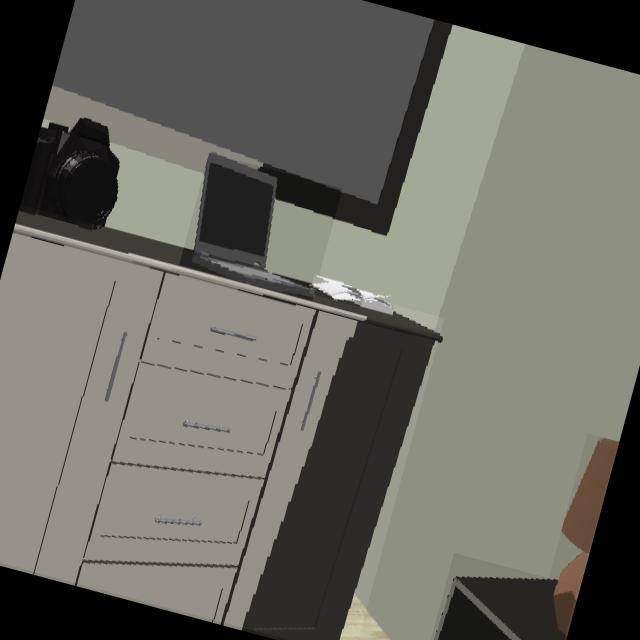book: (312, 276, 392, 315)
cabinet: (0, 214, 439, 640)
lamp: (554, 438, 618, 633)
laptop: (195, 155, 313, 297)
nighttable: (433, 578, 566, 640)
